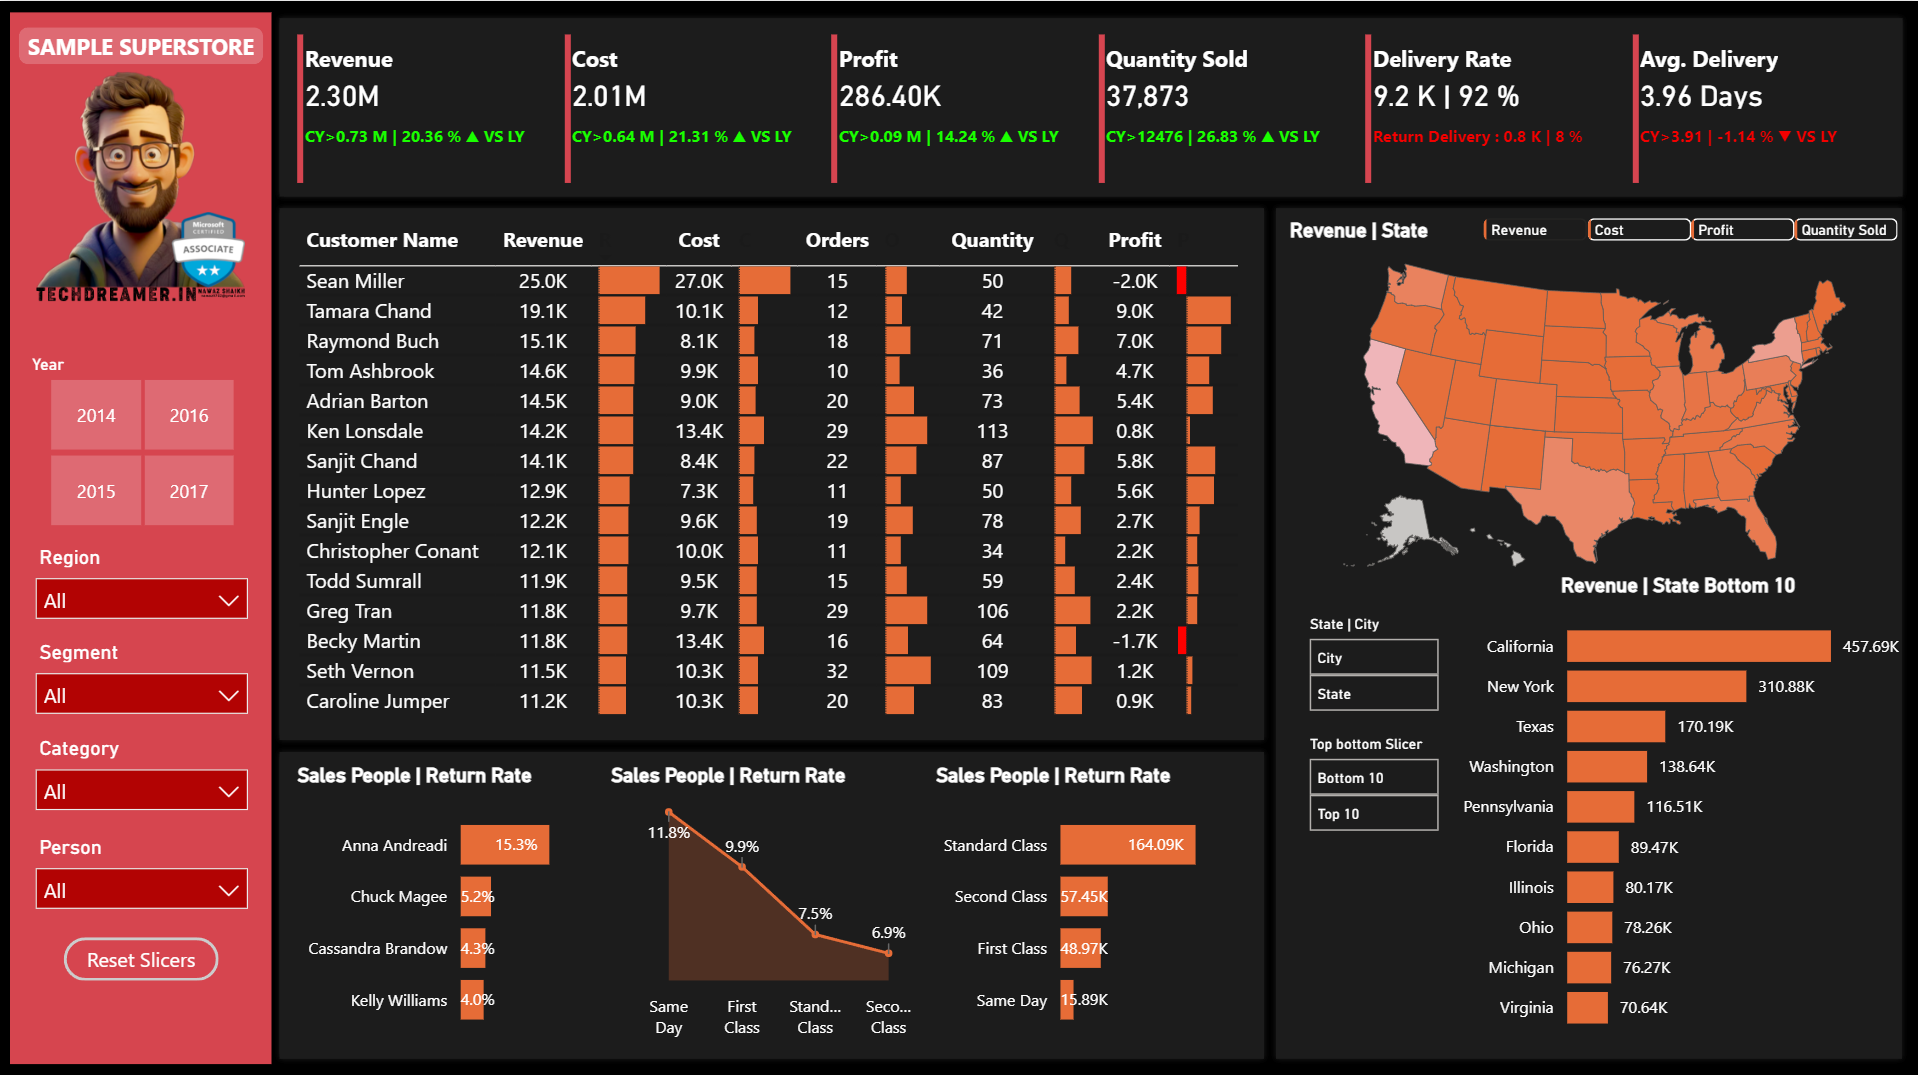

Layout of this report page (visuals, bound fields, positions):
{"tool":"powerbi","page":{"name":"Main","canvas":[1280,720],"ordinal":0},"visuals":[{"type":"shape","title":"Left","box":[6.6,7.4,174.5,701.2],"z":0},{"type":"shape","title":"Top","box":[182.7,7.4,1089.7,126.7],"z":1000},{"type":"shape","title":"Middle","box":[182.5,134.2,664.2,362.5],"z":2000},{"type":"shape","title":"Right","box":[847,133.8,425.3,575],"z":3000},{"type":"shape","title":"Bottom","box":[182.5,496.7,664.2,212.5],"z":4000},{"type":"cardVisual","fields":{"Data":["Measures Table.Revenue","Measures Table.Cost","Measures Table.Profit","Measures Table.Quantity Sold","Measures Table.Delivery Rate","Measures Table.Average Delivery"]},"box":[193.4,17.3,1078.2,107],"z":5000},{"type":"tableEx","fields":{"Values":["Customer_Dim.Customer Name","Measures Table.Revenue","Measures Table.Revenue_View","Measures Table.Cost","Measures Table.Cost_View","Measures Table.Orders","Measures Table.Orders_View","Measures Table.Quantity Sold","Measures Table.Quantity Sold_View","Measures Table.Profit","Measures Table.Profit_View"]},"box":[193.3,145,640,340.8],"z":6000},{"type":"clusteredBarChart","title":"Sales People | Return Rate","fields":{"Category":["People_Dim.Person"],"Y":["Measures Table.Return Rate"]},"box":[193.3,508.3,209.2,190.8],"z":7000},{"type":"areaChart","title":"Sales People | Return Rate","fields":{"Category":["ShipMode_Dim.Ship Mode"],"Y":["Measures Table.Return Rate"]},"box":[402.5,508.3,216.7,190.8],"z":8000},{"type":"shapeMap","fields":{"Value":["Measures Table.Revenue"],"Category":["Location_Dim.State"]},"box":[855,145,416.7,248.3],"z":9000},{"type":"clusteredBarChart","title":"Sales People | Return Rate","fields":{"Category":["ShipMode_Dim.Ship Mode"],"Y":["Measures Table.Profit"]},"box":[619.2,508.3,221.7,190.8],"z":10000},{"type":"slicer","fields":{"Values":["People_Dim.Region"]},"box":[13.3,358.3,161.7,63.3],"z":11000},{"type":"slicer","fields":{"Values":["Customer_Dim.Segment"]},"box":[13.3,421.7,161.7,63.3],"z":12000},{"type":"slicer","fields":{"Values":["Product_Dim.Category"]},"box":[13.3,485.8,161.7,63.3],"z":13000},{"type":"slicer","fields":{"Values":["People_Dim.Person"]},"box":[13.3,551.7,161.7,63.3],"z":14000},{"type":"actionButton","box":[42.5,624.2,103.3,29.2],"z":15000},{"type":"slicer","fields":{"Values":["Orders_Fact.Order Date.Variation.Date Hierarchy.Year"]},"box":[13.3,235.8,161.7,115.8],"z":16000},{"type":"image","box":[12.3,42,163,164.6],"z":17000},{"type":"clusteredBarChart","title":"Revenue | State Bottom 10","fields":{"Y":["Measures Table.Revenue"],"Category":["Location_Dim.State"]},"box":[965,382,307.7,316.3],"z":18000},{"type":"advancedSlicerVisual","fields":{"Values":["State | City.State | City"]},"box":[868.3,409.9,96.3,70],"z":22000},{"type":"actionButton","title":"City Button","box":[873.3,425.5,85.6,23],"z":23000},{"type":"actionButton","title":"State Button","box":[873.3,451.9,84.8,23],"z":24000},{"type":"advancedSlicerVisual","title":"Top bottom Slicer","fields":{"Values":["Top / Bottom.Top / Bottom"]},"box":[868.3,489.7,96.3,69.1],"z":25000},{"type":"actionButton","title":"Bottom 10 Button State","box":[873.3,506.2,85,23],"z":28000},{"type":"actionButton","title":"Top 10 Button State","box":[873.3,529.2,84.8,23],"z":29000},{"type":"shape","box":[12.3,17.3,163,24.7],"z":30000},{"type":"advancedSlicerVisual","fields":{"Values":["BY_What.BY_What"]},"box":[984.4,139.9,289.7,25.5],"z":31000}]}

Visuals, with their boxes in screenshot pixels (x1, y1, x2, y2), scaled from the page's 1280x720 canvas onto the 1918x1075 screenshot:
"Left" shape: box=[10, 11, 271, 1058]
"Top" shape: box=[274, 11, 1907, 200]
"Middle" shape: box=[273, 200, 1269, 742]
"Right" shape: box=[1269, 200, 1906, 1058]
"Bottom" shape: box=[273, 742, 1269, 1059]
cardVisual - Measures Table.Revenue x Measures Table.Cost: box=[290, 26, 1905, 186]
tableEx - Customer_Dim.Customer Name x Measures Table.Revenue: box=[290, 216, 1249, 725]
"Sales People | Return Rate" clusteredBarChart: box=[290, 759, 603, 1044]
"Sales People | Return Rate" areaChart: box=[603, 759, 928, 1044]
shapeMap - Measures Table.Revenue x Location_Dim.State: box=[1281, 216, 1906, 587]
"Sales People | Return Rate" clusteredBarChart: box=[928, 759, 1260, 1044]
slicer - People_Dim.Region: box=[20, 535, 262, 629]
slicer - Customer_Dim.Segment: box=[20, 630, 262, 724]
slicer - Product_Dim.Category: box=[20, 725, 262, 820]
slicer - People_Dim.Person: box=[20, 824, 262, 918]
actionButton: box=[64, 932, 218, 976]
slicer - Orders_Fact.Order Date.Variation.Date Hierarchy.Year: box=[20, 352, 262, 525]
image: box=[18, 63, 263, 308]
"Revenue | State Bottom 10" clusteredBarChart: box=[1446, 570, 1907, 1043]
advancedSlicerVisual - State | City.State | City: box=[1301, 612, 1445, 717]
"City Button" actionButton: box=[1309, 635, 1437, 670]
"State Button" actionButton: box=[1309, 675, 1436, 709]
"Top bottom Slicer" advancedSlicerVisual: box=[1301, 731, 1445, 834]
"Bottom 10 Button State" actionButton: box=[1309, 756, 1436, 790]
"Top 10 Button State" actionButton: box=[1309, 790, 1436, 824]
shape: box=[18, 26, 263, 63]
advancedSlicerVisual - BY_What.BY_What: box=[1475, 209, 1909, 247]
